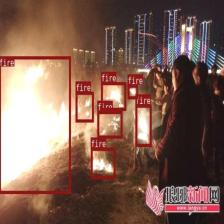fire: (0, 55, 70, 193), (90, 148, 116, 178), (100, 81, 125, 110), (97, 110, 122, 138), (135, 104, 151, 146), (75, 92, 94, 122), (127, 85, 138, 98)
